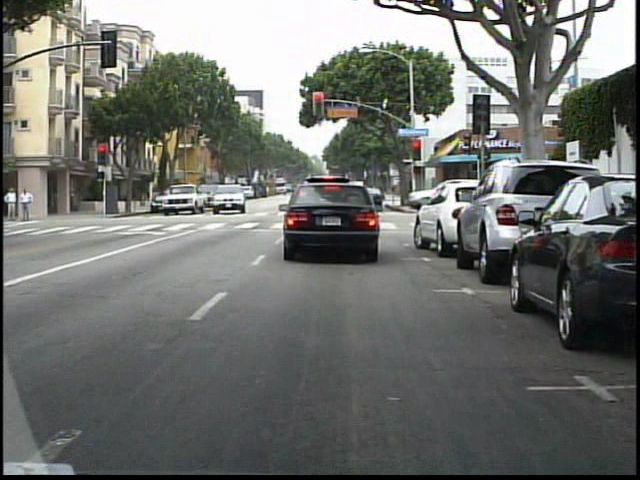person: (19, 185, 36, 224), (2, 185, 18, 225)
